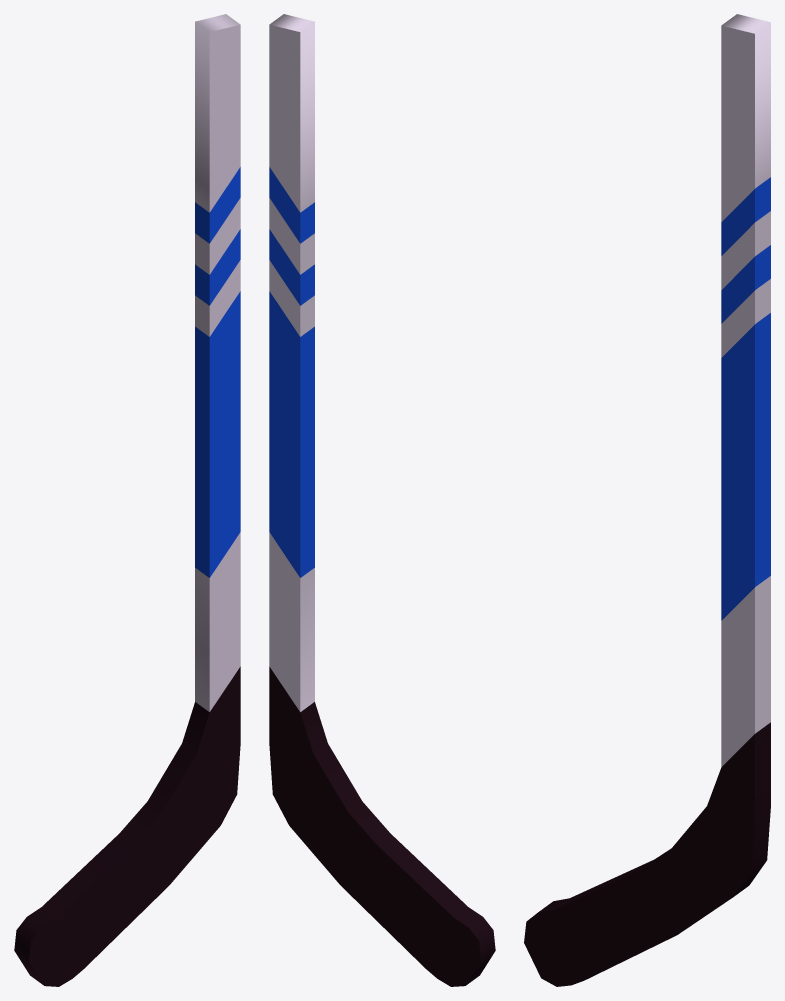
File: Hockey_stick.fbx
The picture shows the model from 3 angles, left to right: view 1: azimuth 30°, elevation 25°; view 2: azimuth 150°, elevation 25°; view 3: azimuth 330°, elevation 25°; orthographic projection. The views are drawn at different scales.
Parts seen in each view (by area): view 1: Hockey_stick; view 2: Hockey_stick; view 3: Hockey_stick.
Part boxes in pixels (box(x1,y1,x2,y2)): Hockey_stick: box(14, 14, 240, 986); Hockey_stick: box(269, 14, 495, 986); Hockey_stick: box(524, 14, 770, 986).
Size of the model in its own units: 0.4061 by 1.68 by 0.0482.
